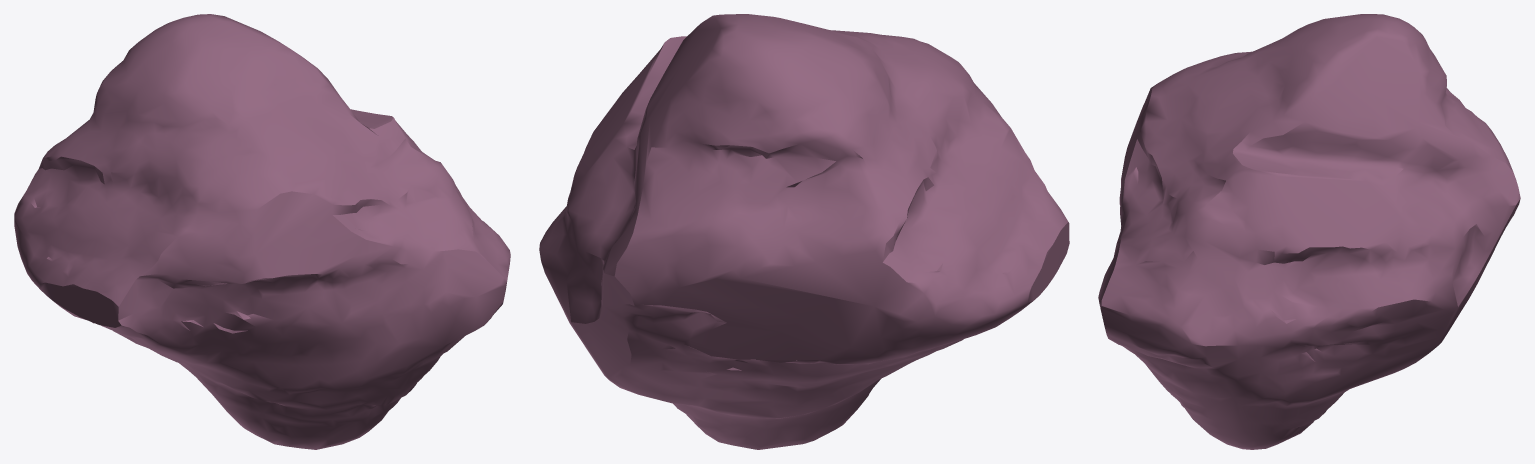
3 renders of one model, left to right at view 1: azimuth 30°, elevation 25°; view 2: azimuth 150°, elevation 25°; view 3: azimuth 270°, elevation 25°, orthographic. The views are drawn at different scales.
Visible parts, largest first — view 1: SM_US_GroundRock_01_v2_LOD0; view 2: SM_US_GroundRock_01_v2_LOD0; view 3: SM_US_GroundRock_01_v2_LOD0.
Part boxes in pixels (box(x1,y1,x2,y2)): SM_US_GroundRock_01_v2_LOD0: box(14, 14, 510, 449); SM_US_GroundRock_01_v2_LOD0: box(539, 14, 1069, 449); SM_US_GroundRock_01_v2_LOD0: box(1098, 14, 1520, 449).
Bounding box in the file's own units: 2.06 × 1.87 × 1.86.
